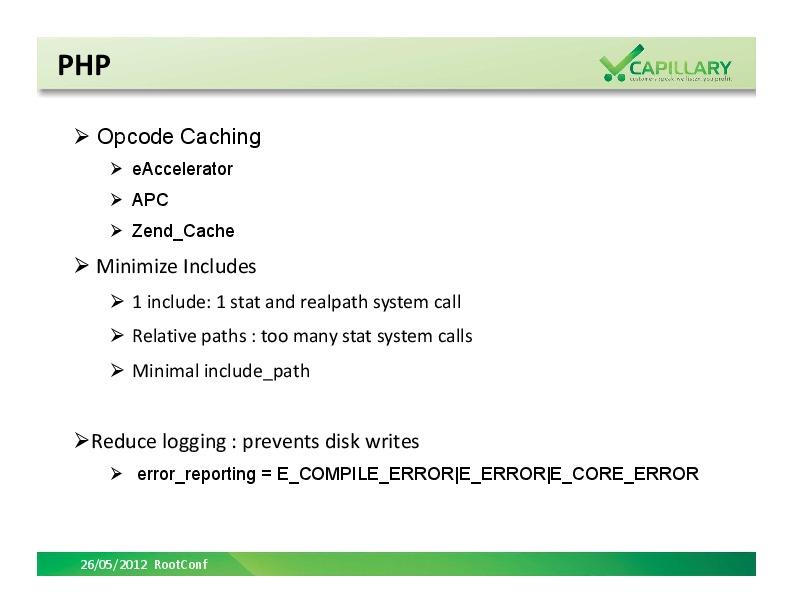paragraph: (60, 111, 727, 511)
subtitle: (72, 546, 228, 583)
title: (54, 43, 120, 91)
